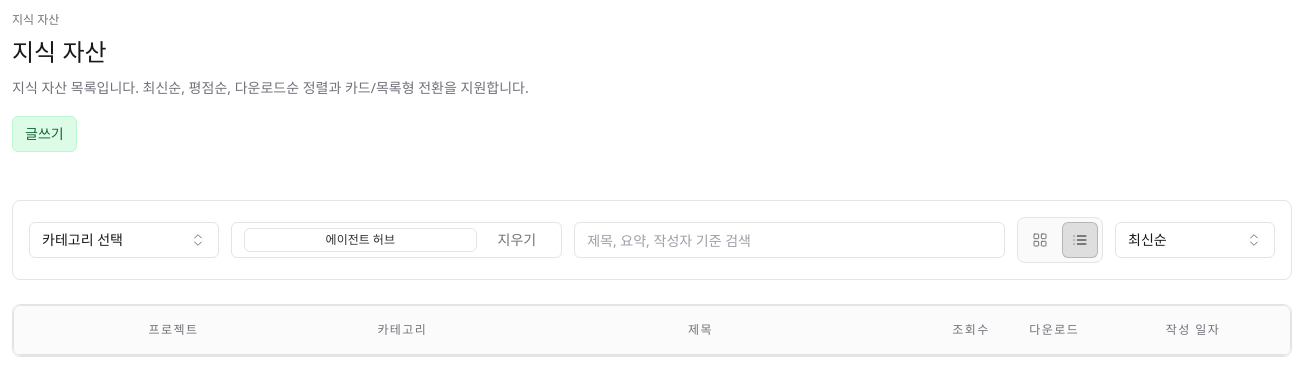
Test: AssetListPage › 프로젝트가 선택된 상태에서 지우기를 누르면 프로젝트 검색 입력으로 되돌아간다
Expected: the message named "선택된 프로젝트 에이전트 허브" is shown, [231, 222, 562, 258]
Click the button "지우기". click: coordinates (517, 240)
box: [485, 224, 549, 256]
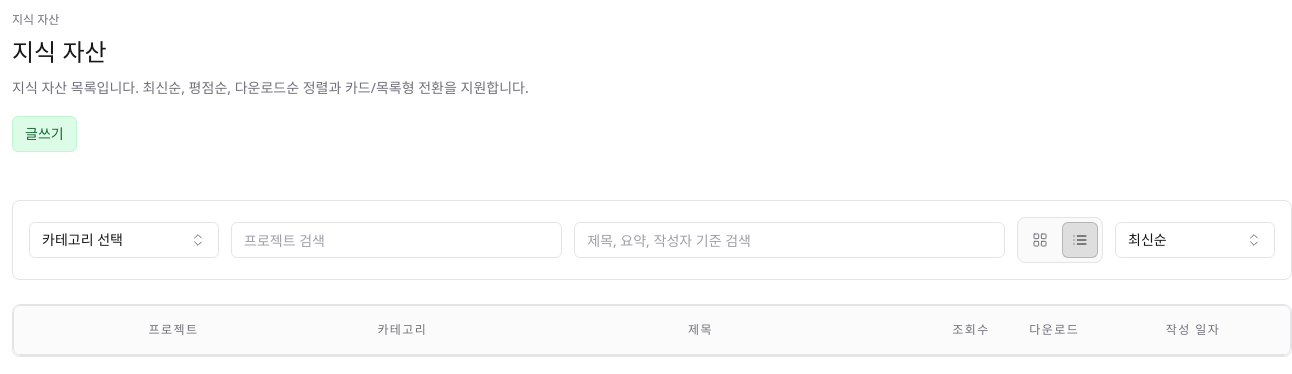
Expected: the dropdown with placeholder "프로젝트 검색" is shown, [231, 222, 562, 258]
